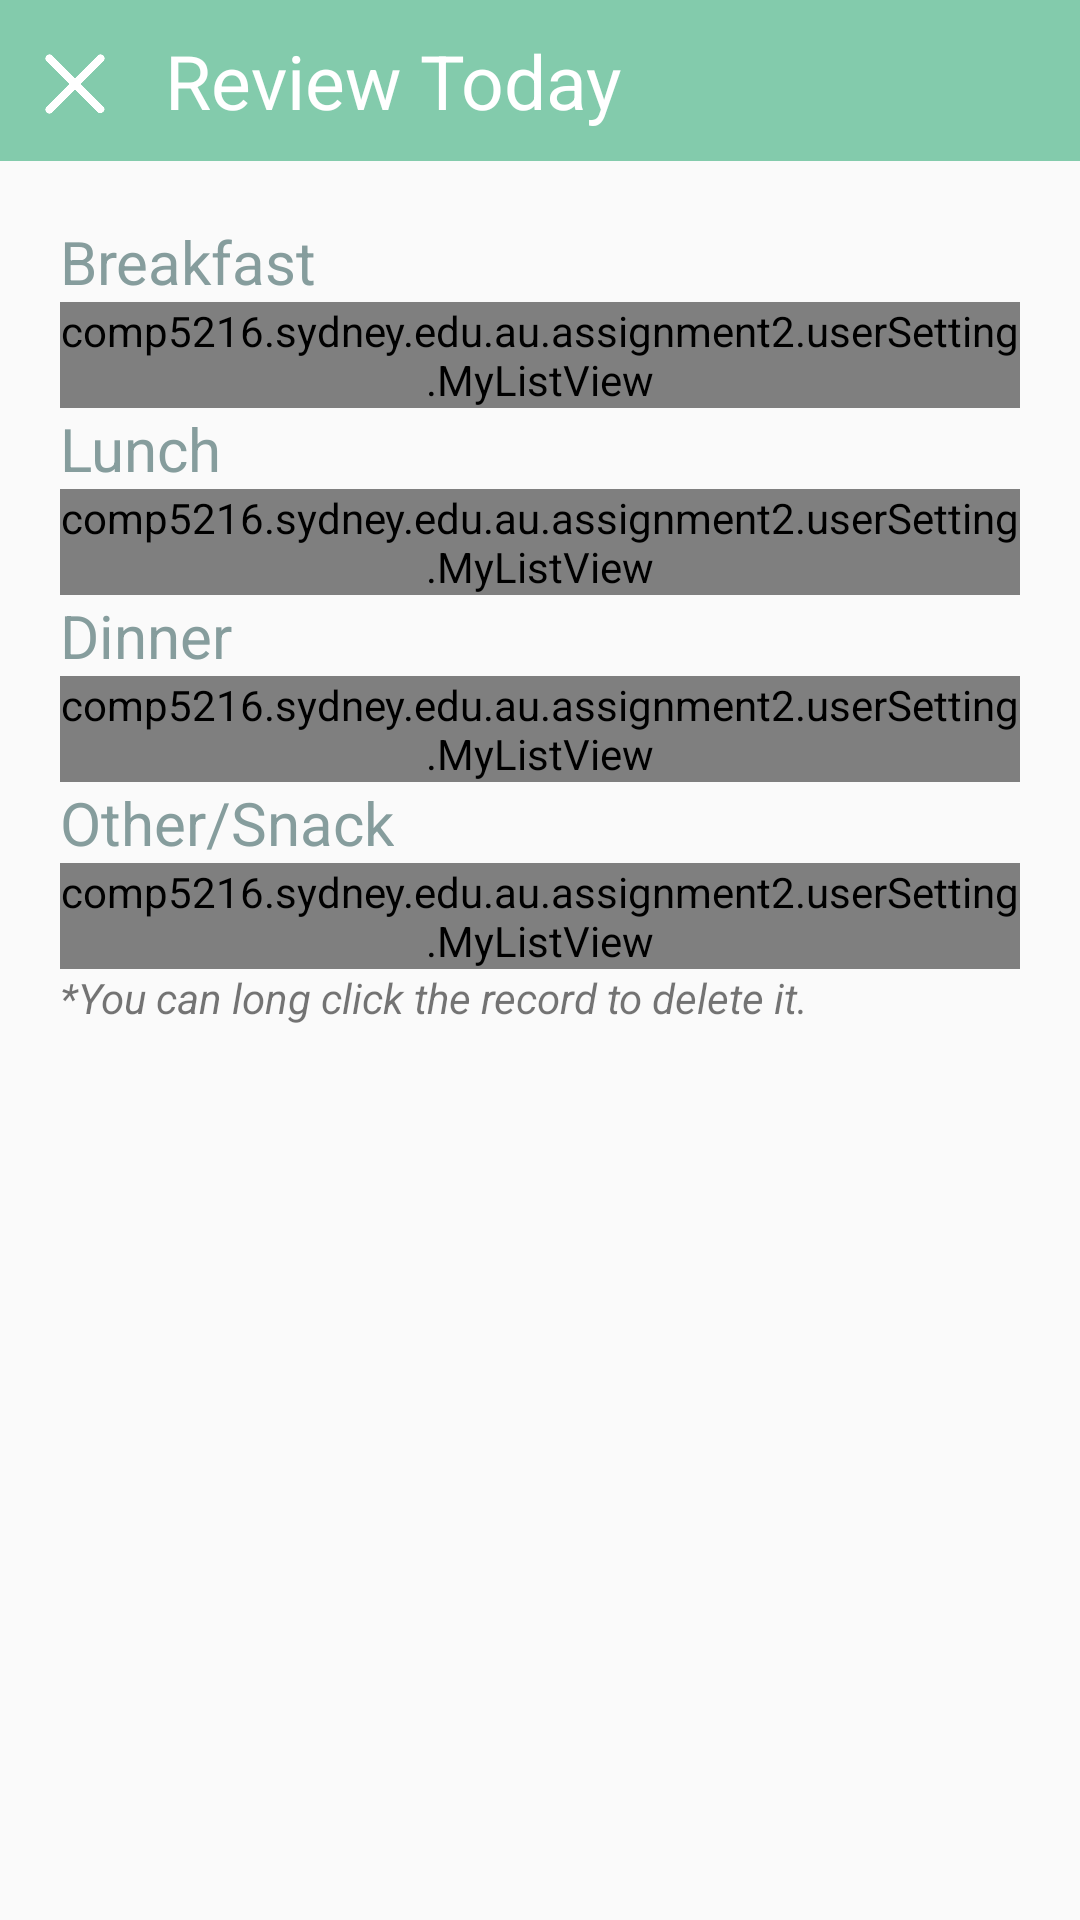

Where to tap for icons on this 1080×1920 app screen, as point (x, y):
cancel: point (75, 84)
